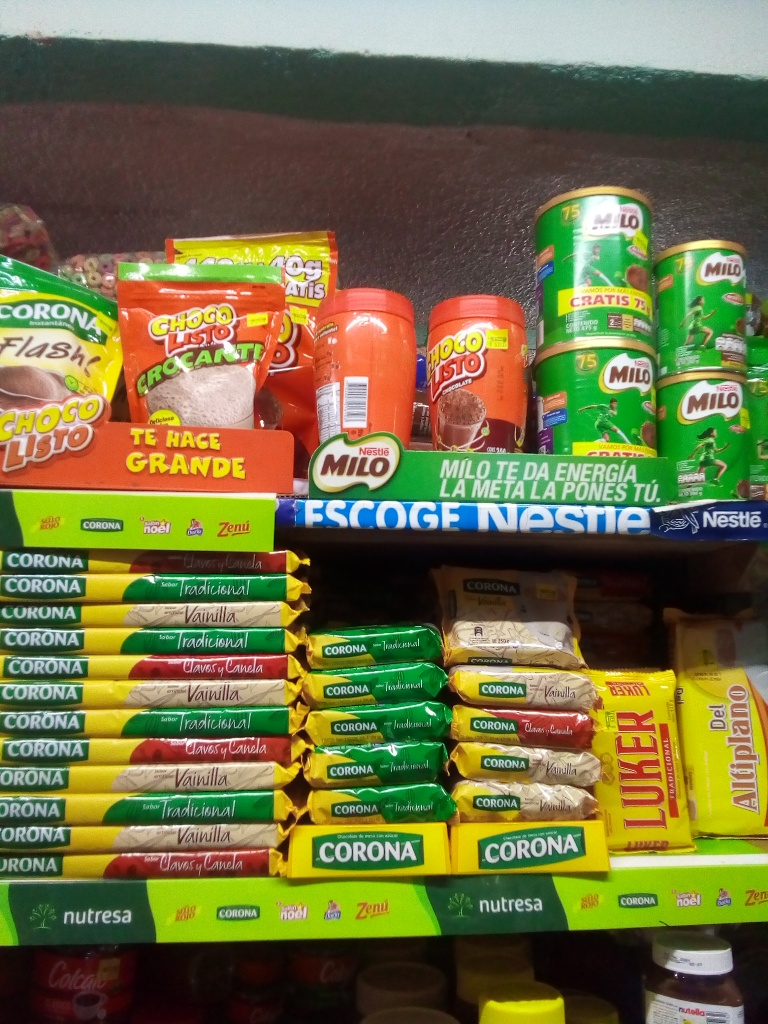COL0170203LAT20000: (660, 246, 763, 376)
COL0170203LAT40000: (530, 186, 658, 344)
